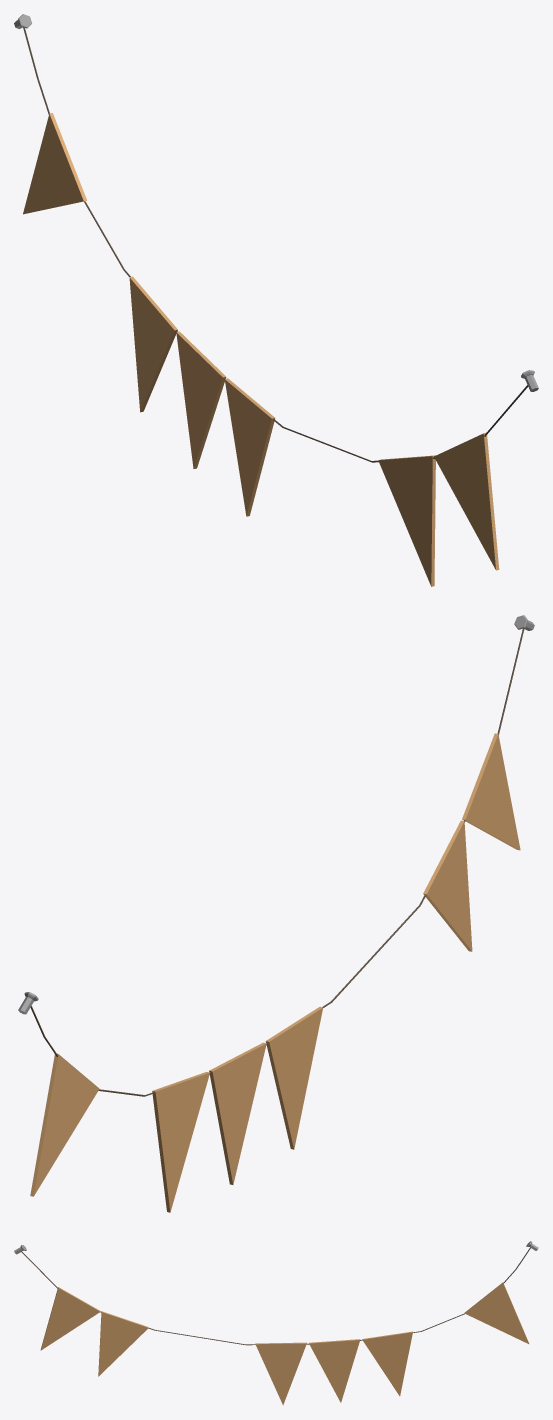
The model's file is Lvl1_garland_02.fbx.
3 views of the same model, one above another, from view 1: azimuth 30°, elevation 25°; view 2: azimuth 150°, elevation 25°; view 3: azimuth 270°, elevation 25° (orthographic). The views are drawn at different scales.
Parts seen in each view (by area): view 1: Lvl1_garland_02; view 2: Lvl1_garland_02; view 3: Lvl1_garland_02.
Part boxes in pixels (box(x1,y1,x2,y2)): Lvl1_garland_02: box(14, 14, 538, 586); Lvl1_garland_02: box(18, 615, 534, 1212); Lvl1_garland_02: box(14, 1241, 538, 1405).
Size of the model in its own units: 0.6659 by 5.43 by 15.39.
